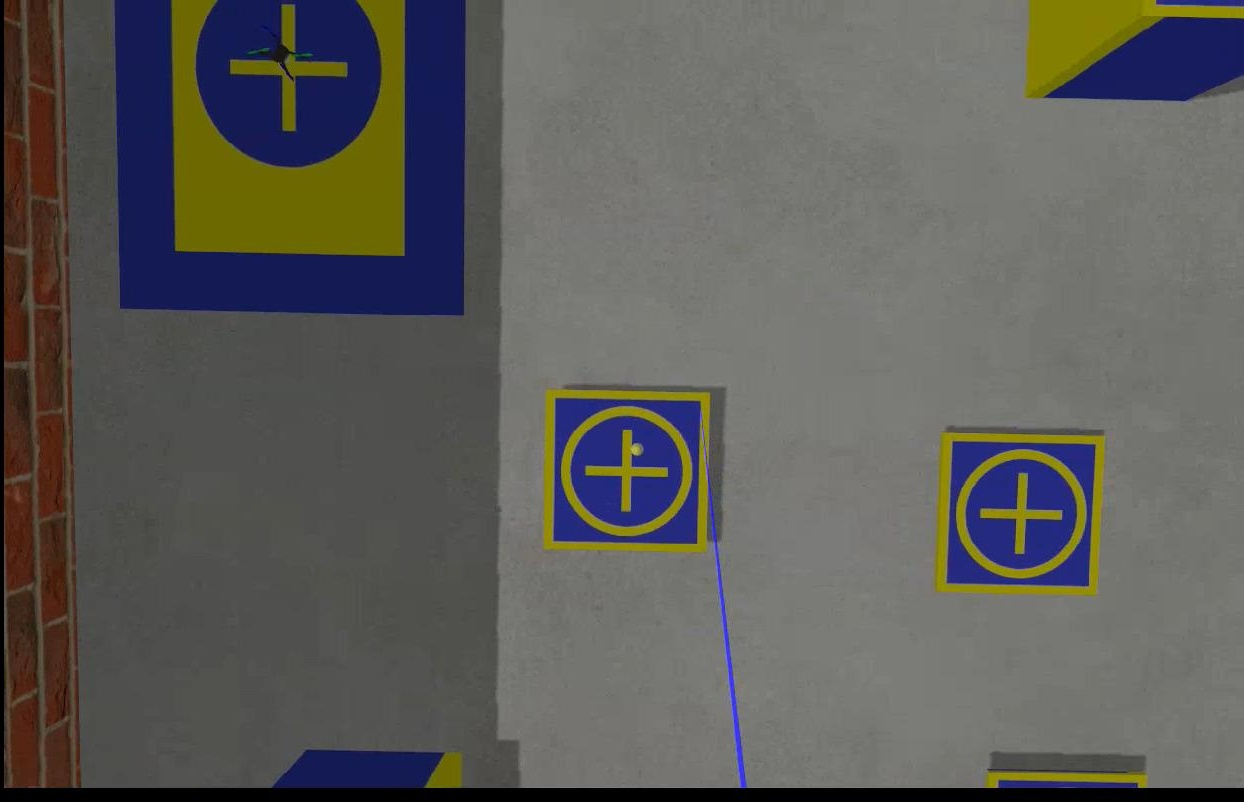large_base: (114, 1, 466, 313)
small_base: (931, 428, 1106, 594), (539, 389, 710, 558)
